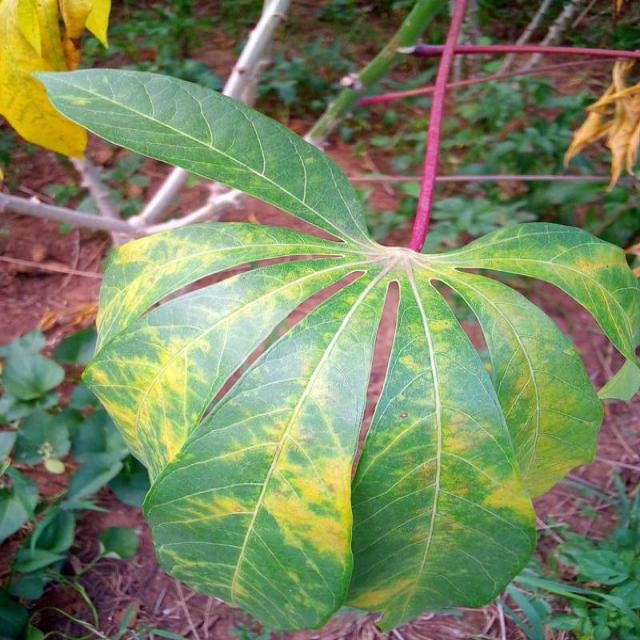cassava leaf: (32, 54, 639, 634)
